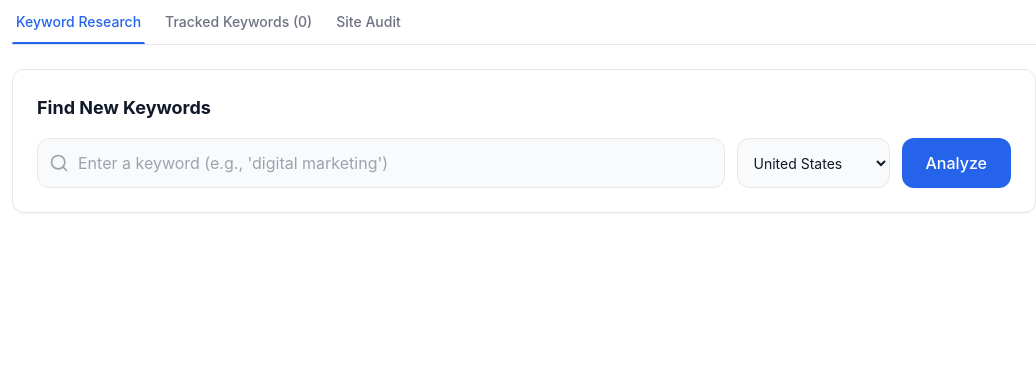
Test case: SEOTools › shows empty state for tracked keywords
Click the button "Tracked Keywords (0)" at (239, 28), box left=161, top=12, right=316, bottom=44
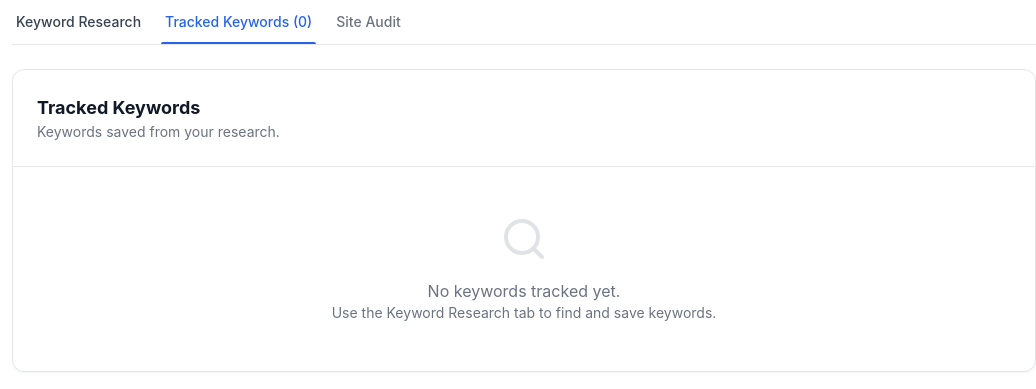
Result: the text "No keywords tracked yet." is shown at left=428, top=281, right=620, bottom=301
